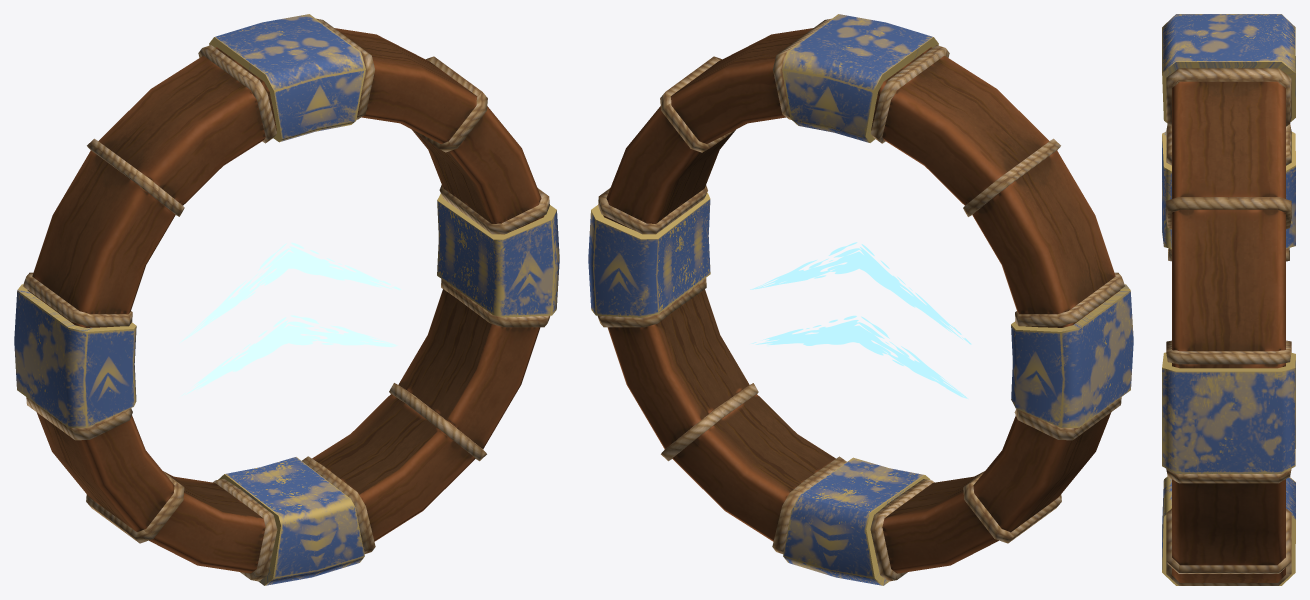
File: boostRing_mobile.gltf
3 views of the same model, side by side, from view 1: azimuth 30°, elevation 25°; view 2: azimuth 150°, elevation 25°; view 3: azimuth 270°, elevation 25° (orthographic). The views are drawn at different scales.
Parts seen in each view (by area): view 1: Cylinder.003, Cylinder.007, ropes.002, Cylinder.006; view 2: Cylinder.003, Cylinder.007, ropes.002, Cylinder.006; view 3: Cylinder.003, Cylinder.007, ropes.002.
Boxes of the visible parts, <box> form: Cylinder.003: <box>27,28,544,573</box>; Cylinder.007: <box>14,14,559,585</box>; ropes.002: <box>23,18,550,581</box>; Cylinder.006: <box>179,242,401,396</box>; Cylinder.003: <box>603,28,1120,573</box>; Cylinder.007: <box>588,14,1133,585</box>; ropes.002: <box>597,18,1124,581</box>; Cylinder.006: <box>750,242,971,398</box>; Cylinder.003: <box>1172,81,1285,582</box>; Cylinder.007: <box>1162,14,1295,585</box>; ropes.002: <box>1166,68,1291,585</box>.
Bounding box in the file's own units: 4.11 × 4.11 × 0.9395.
2 materials, 2 textured.
